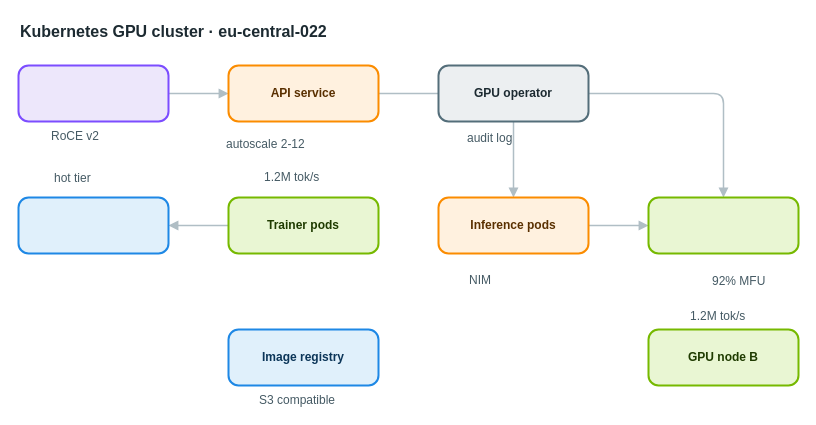
Image size: 816x425. Some labels were removed from this diagram. The shapes that lost their labels are listed below. From the top down, each one's centre as x and y in pixels, then its label:
At [93,93]: "Ingress".
At [93,225]: "Volumes".
At [723,225]: "GPU node A".
